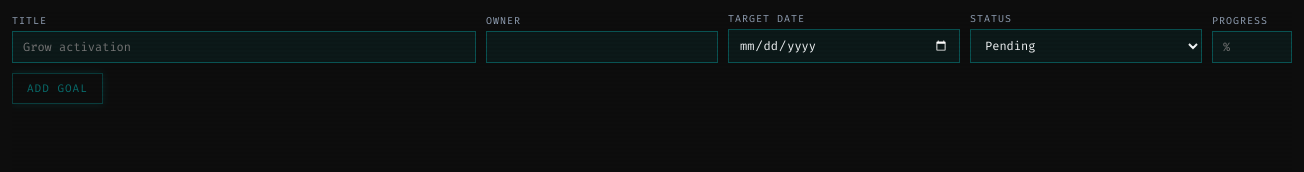
Test: blank progress is sent as null and a 409 names the clash
Type "Dup" into the field labelled "Title".
click(244, 47); type("Dup")  # box [12,31,476,63]
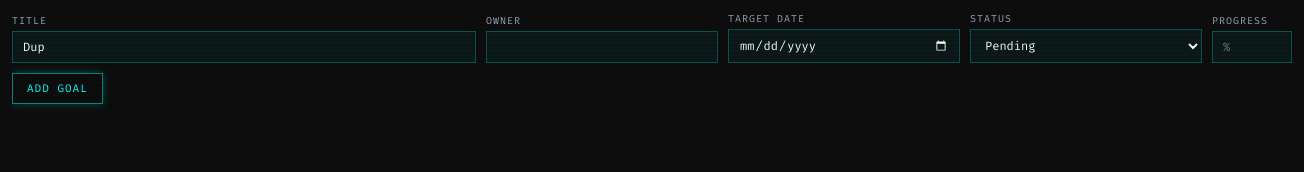
Click the button "Add goal".
click(57, 88)  # box [12,73,103,104]
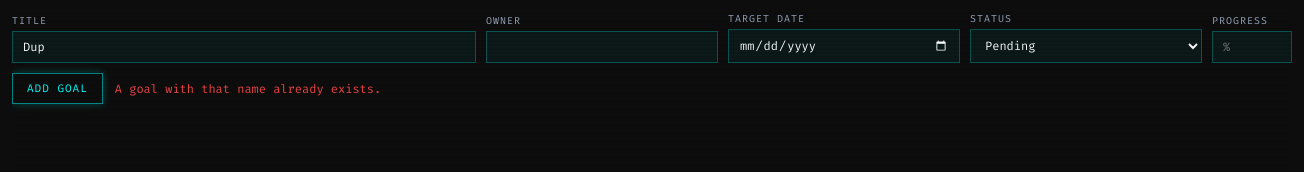
Result: the text "A goal with that name already exists." is shown at [115,80,381,96]
